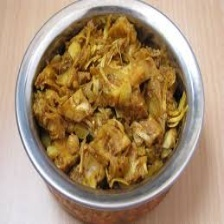sabzi: (26, 9, 196, 197)
